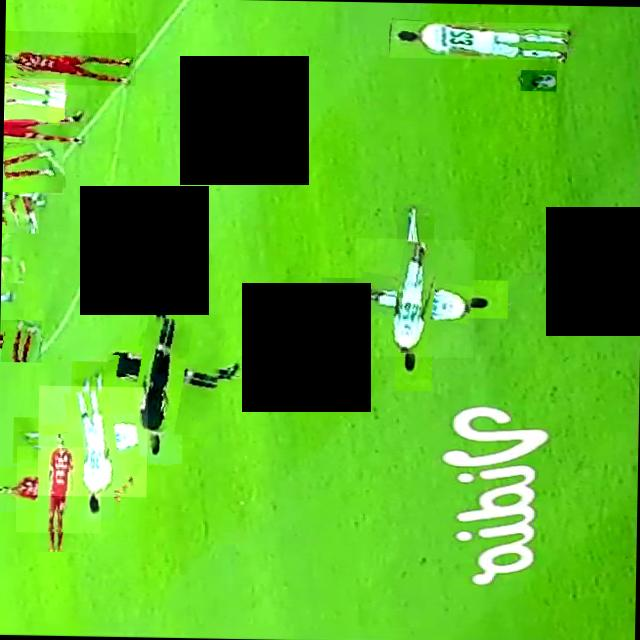ball: (520, 68, 556, 90)
referee: (99, 311, 222, 434)
soccer-player: (354, 236, 474, 356), (37, 384, 148, 496), (15, 446, 101, 532), (388, 19, 568, 59), (4, 30, 136, 84), (2, 138, 64, 194), (4, 76, 66, 122), (0, 318, 42, 362), (1, 194, 40, 232), (1, 258, 24, 282)
